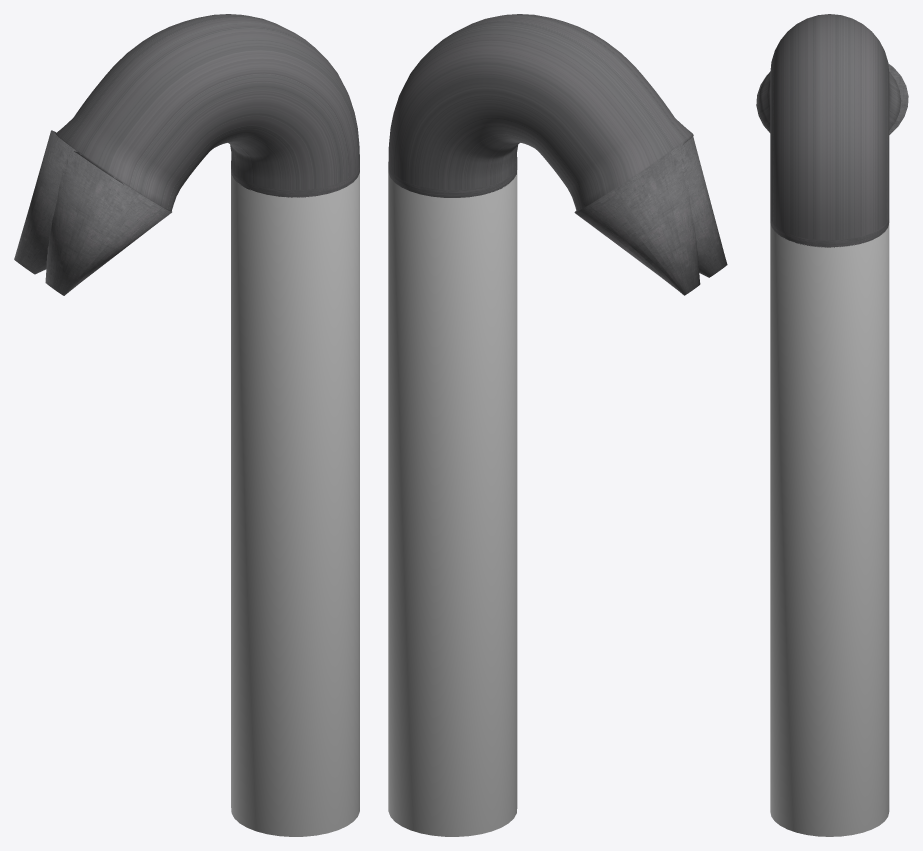
Rendered from GordMontF.fbx.
3 renders of one model, left to right at view 1: azimuth 30°, elevation 25°; view 2: azimuth 150°, elevation 25°; view 3: azimuth 270°, elevation 25°, orthographic. The views are drawn at different scales.
Visible parts, largest first — view 1: Cylinder.003, Cylinder, Cylinder.001, Cylinder.002; view 2: Cylinder.003, Cylinder, Cylinder.002, Cylinder.001; view 3: Cylinder.003, Cylinder, Cylinder.002.
Part boxes in pixels (x1,y1,x2,y2): Cylinder.003: [231, 169, 359, 836]; Cylinder: [55, 14, 359, 210]; Cylinder.001: [45, 141, 171, 295]; Cylinder.002: [14, 130, 171, 274]; Cylinder.003: [388, 170, 517, 836]; Cylinder: [388, 14, 693, 210]; Cylinder.002: [574, 143, 700, 295]; Cylinder.001: [671, 136, 727, 277]; Cylinder.003: [770, 223, 889, 836]; Cylinder: [758, 14, 901, 247]; Cylinder.002: [758, 63, 908, 134].
Size of the model in its own units: 563 by 1382 by 256.
